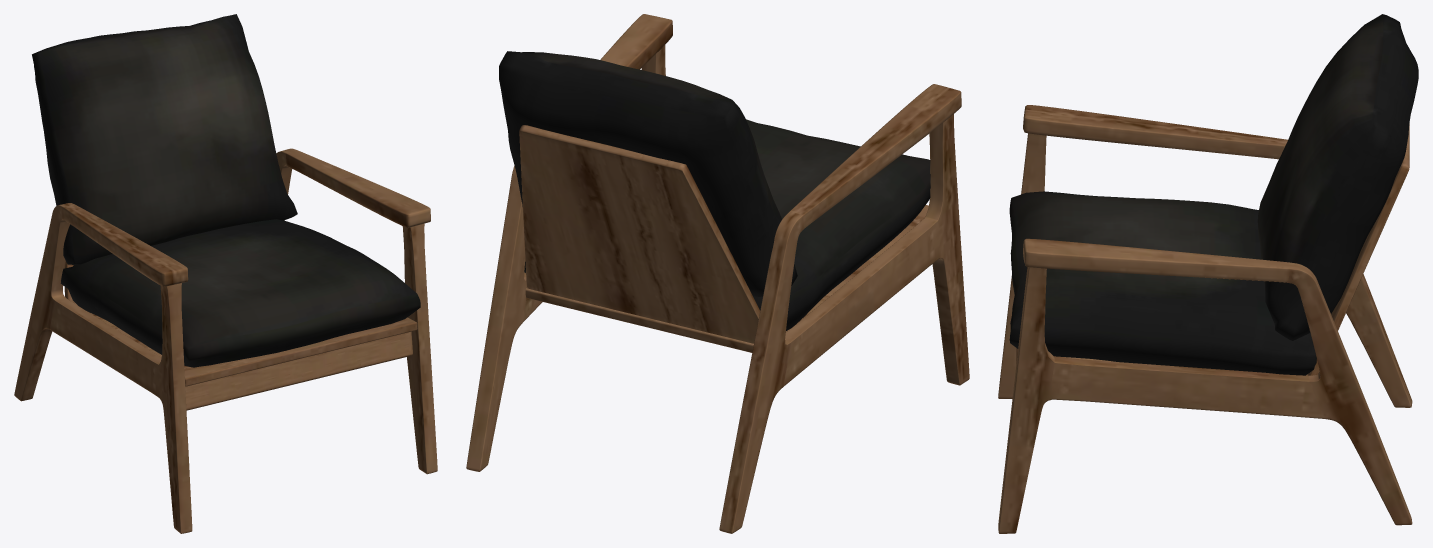
File: modern_arm_chair_01.glb
3 views of the same model, side by side, from view 1: azimuth 30°, elevation 25°; view 2: azimuth 150°, elevation 25°; view 3: azimuth 270°, elevation 25° (orthographic). The views are drawn at different scales.
Visible parts, largest first — view 1: modern_arm_chair_01; view 2: modern_arm_chair_01; view 3: modern_arm_chair_01.
Part boxes in pixels (bbox=[...]): modern_arm_chair_01: bbox=[14, 14, 437, 533]; modern_arm_chair_01: bbox=[466, 14, 969, 533]; modern_arm_chair_01: bbox=[998, 14, 1418, 533].
Bounding box in the file's own units: 0.8203 × 1.02 × 0.9865.
Materials: 2 (2 with a texture image).
